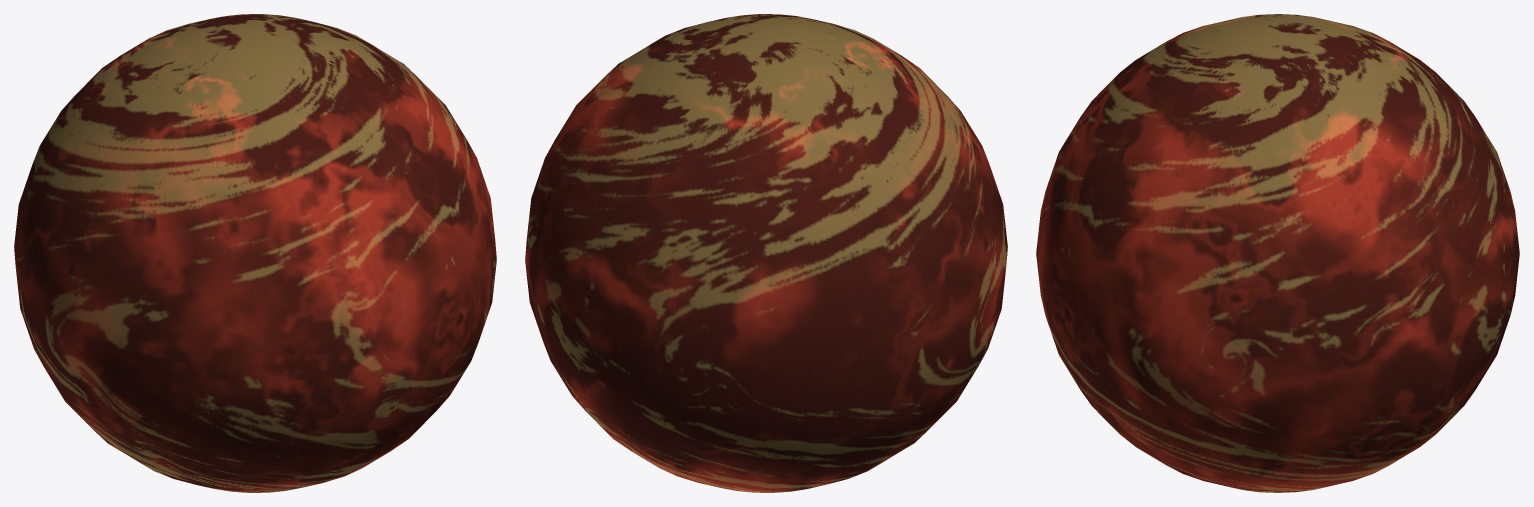
Rendered from planet-4.glb.
The picture shows the model from 3 angles, left to right: view 1: azimuth 30°, elevation 25°; view 2: azimuth 150°, elevation 25°; view 3: azimuth 270°, elevation 25°; orthographic projection.
Visible parts, largest first — view 1: 186e; view 2: 186e; view 3: 186e.
Boxes of the visible parts, x1,y1,x2,y2 form: 186e: (14,14,496,492); 186e: (525,14,1007,492); 186e: (1036,14,1519,492).
Size of the model in its own units: 1.01 by 1 by 1.01.
1 material, 1 textured.
